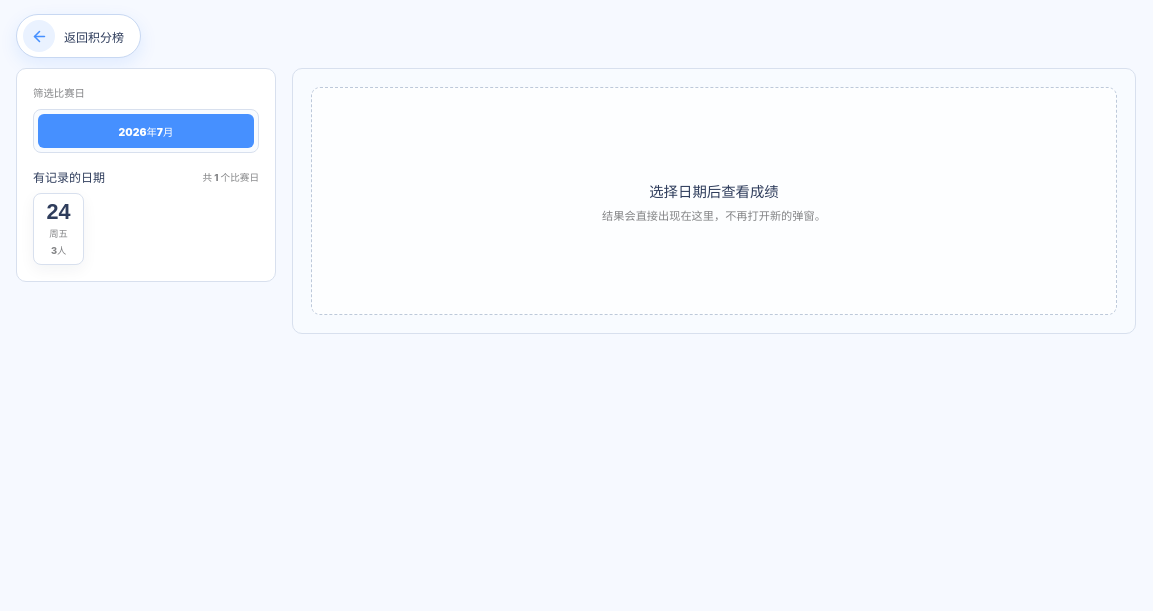
Test: sorts summary cards and expands one member detail at a time
The width and height of the screenshot is (1153, 611).
Click the button with aria-label "查看 2026年7月24日积分" at (59, 229), box [33,193,84,265]
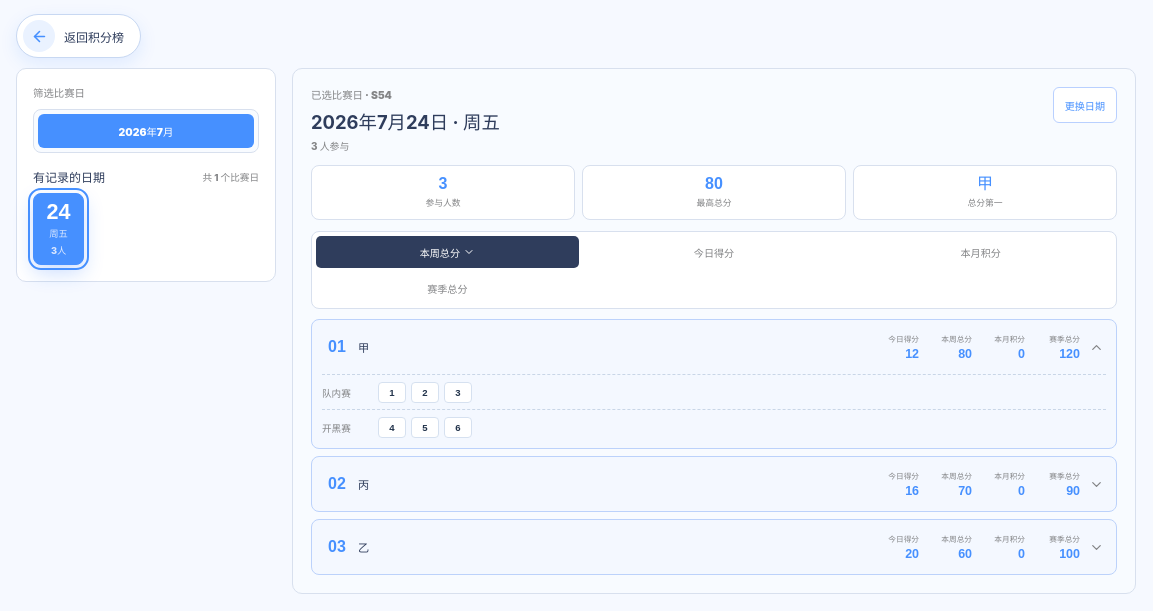
Click the tab "今日得分" at (714, 252), box [583,236,845,268]
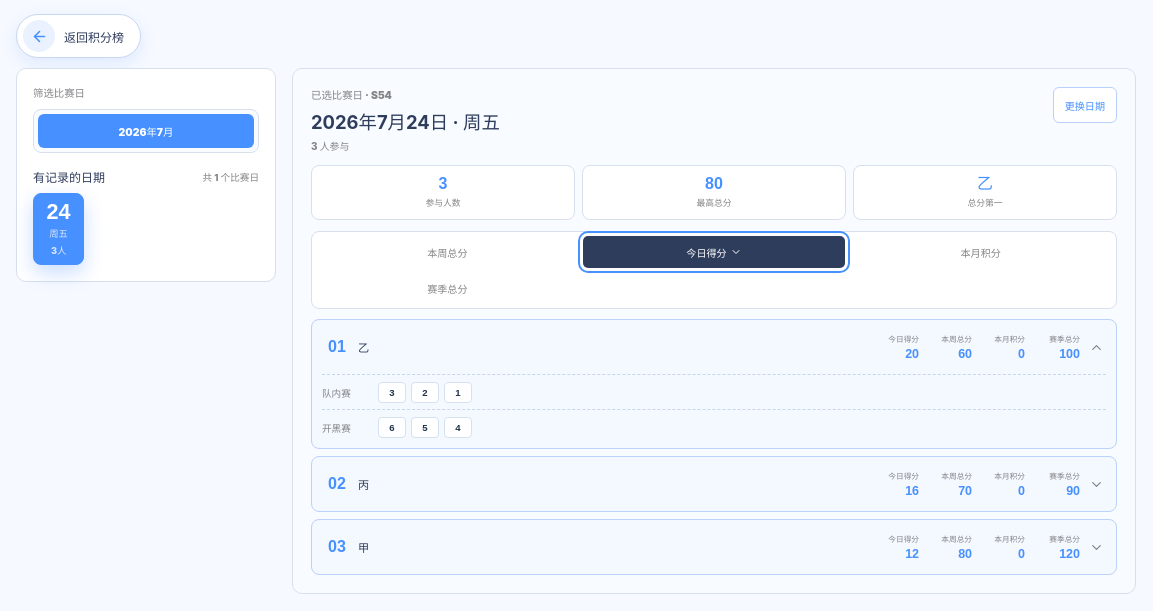
Expected: the element with test id "score-query-row" shows "队内赛", [322,388,351,399]
Now the element with test id "score-query-row" shows "乙", box [312,320,1116,374]
Click the tab "今日得分" at (714, 252), box [583,236,845,268]
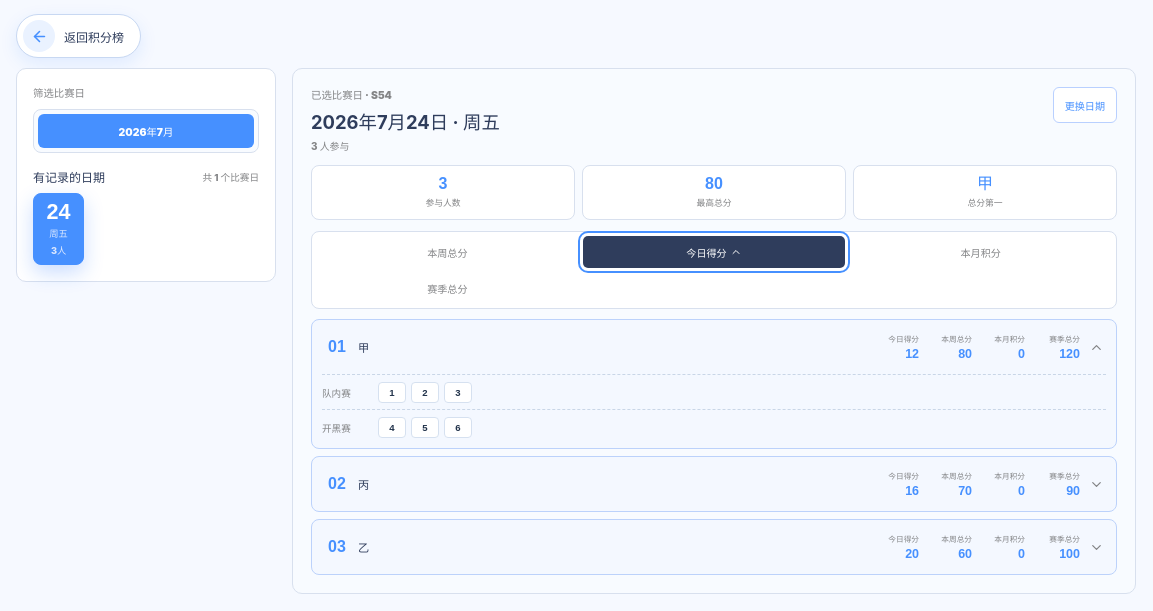
Now the element with test id "score-query-row" shows "甲", box [312,320,1116,374]
Click the tab "今日得分" at (714, 252), box [583,236,845,268]
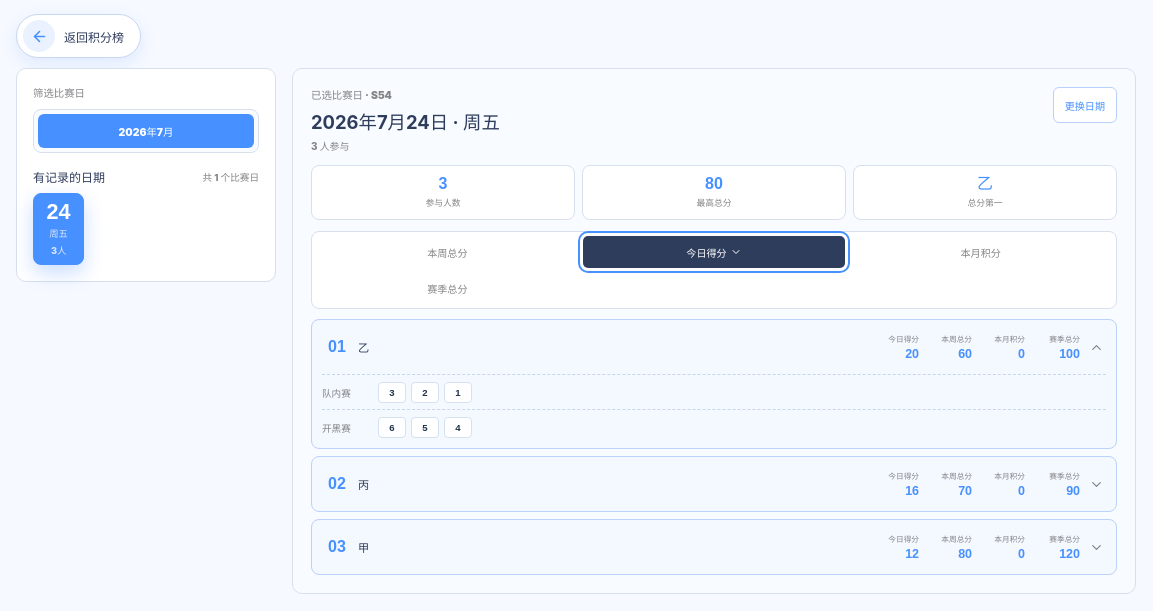
Now the element with test id "score-query-row" shows "乙", box [312,320,1116,374]
Click the button "02 丙 今日得分 16 本周总分 70 本月积分 0 赛季总分 90" at (904, 477), box [312,457,1116,511]
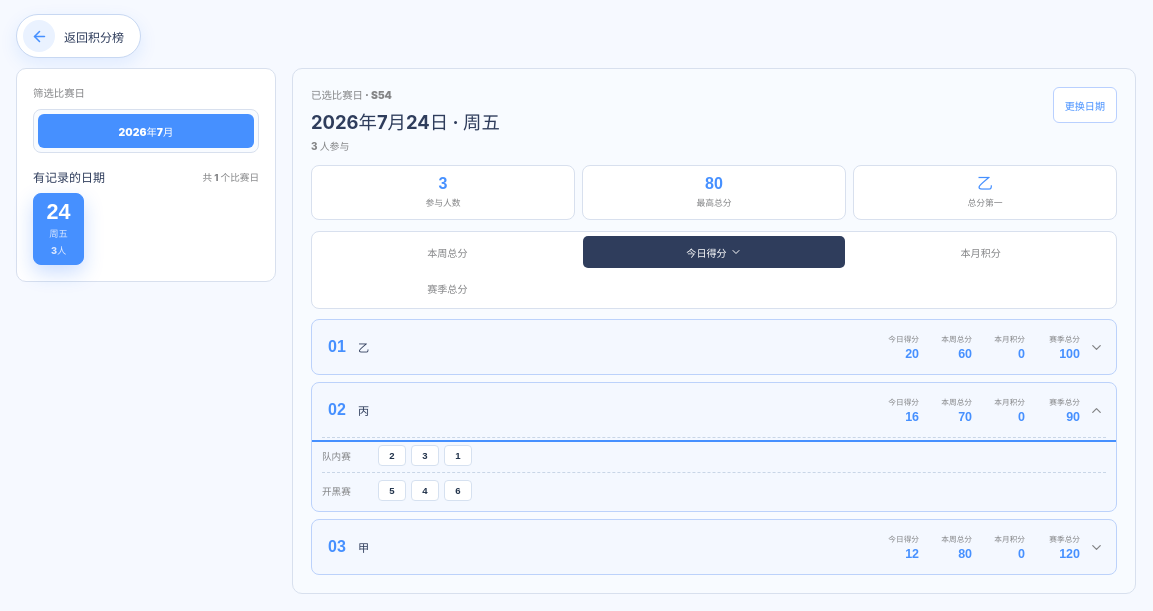
Expected: the element with test id "score-query-row" does not show "队内赛", [311,319,1117,375]
Now the element with test id "score-query-row" shows "队内赛", box [322,451,351,462]
